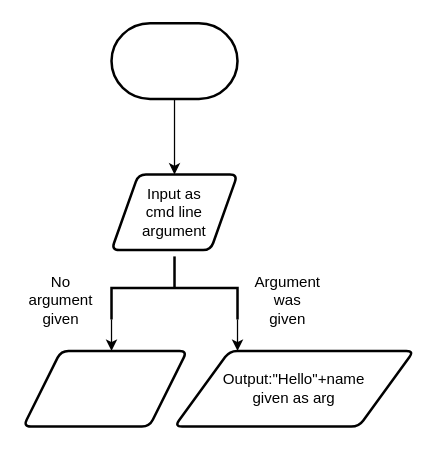
This 436x449 diagram has some shape labels left out. The centre of each missing label's shape, as x and y in pixels:
Output:"Hello World!": (104,388)
Start: (174,60)
